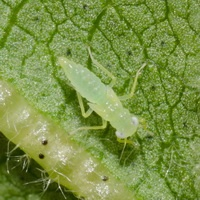insect: (58, 47, 138, 141)
